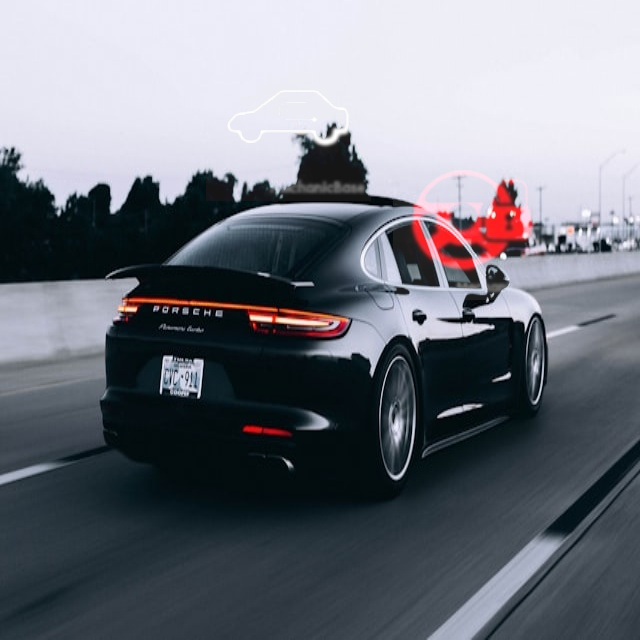symbol: (206, 36, 371, 201), (393, 139, 554, 300)
